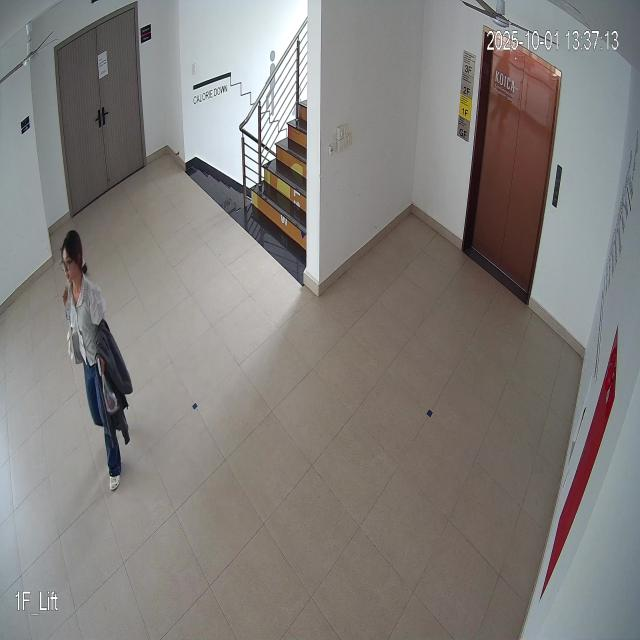face: (58, 224, 87, 296)
